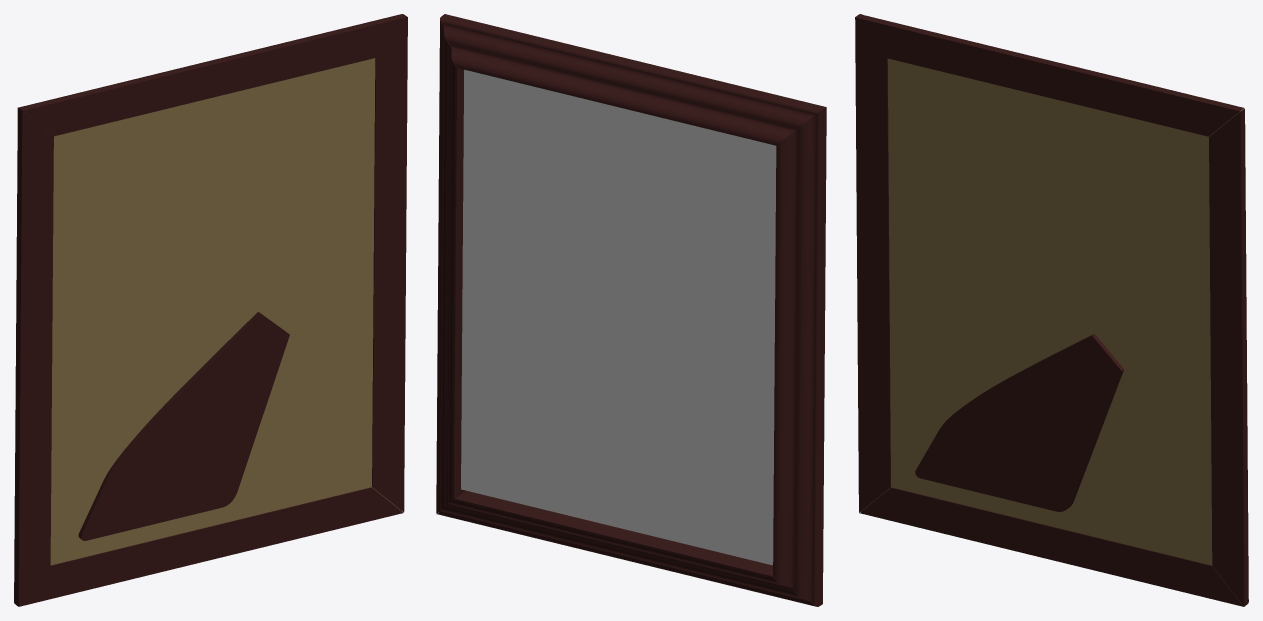
Rendered from pictureframe.fbx.
3 views of the same model, side by side, from view 1: azimuth 30°, elevation 25°; view 2: azimuth 150°, elevation 25°; view 3: azimuth 330°, elevation 25° (orthographic).
Visible parts, largest first — view 1: back, frame, stand; view 2: front, frame; view 3: back, frame, stand.
Part boxes in pixels (left/top/right/bottom): back: left=50, top=58, right=401, bottom=565; frame: left=14, top=14, right=407, bottom=606; stand: left=78, top=311, right=289, bottom=540; front: left=461, top=69, right=776, bottom=565; frame: left=436, top=14, right=826, bottom=606; back: left=861, top=58, right=1240, bottom=565; frame: left=855, top=14, right=1248, bottom=606; stand: left=915, top=334, right=1123, bottom=511.
Bounding box in the file's own units: 0.5699 × 0.7049 × 0.059.
